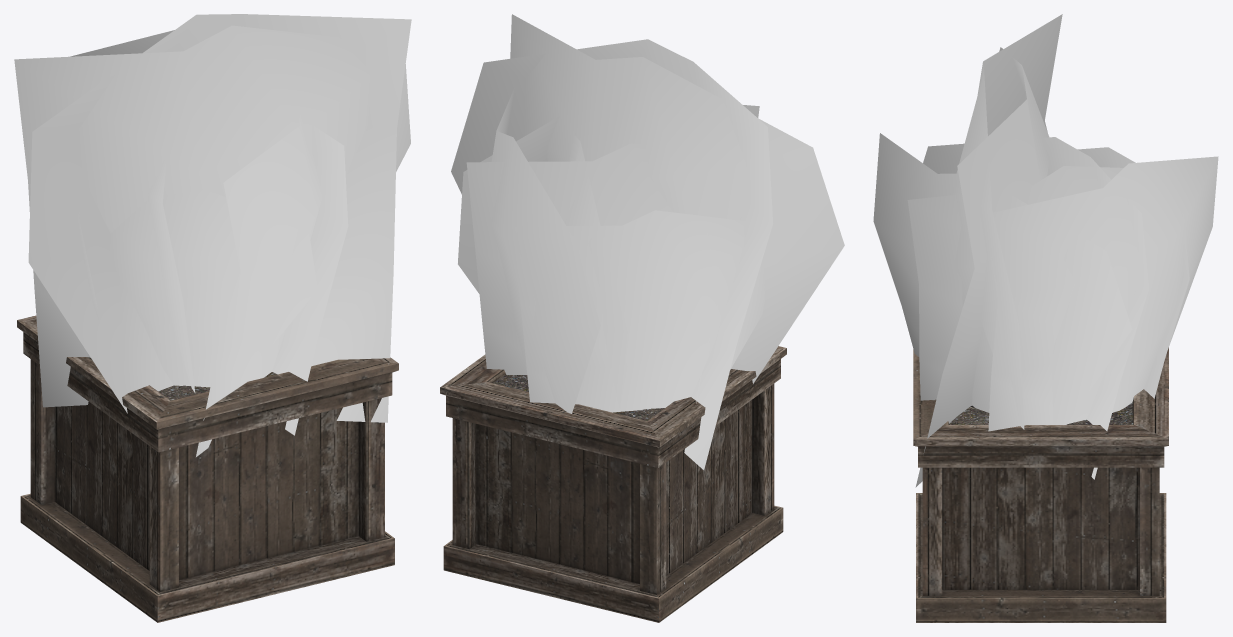
The model's file is Flower_Pot_04.fbx.
3 views of the same model, side by side, from view 1: azimuth 30°, elevation 25°; view 2: azimuth 150°, elevation 25°; view 3: azimuth 270°, elevation 25° (orthographic). The views are drawn at different scales.
Parts seen in each view (by area): view 1: Flower_Pot_04_LOD0; view 2: Flower_Pot_04_LOD0; view 3: Flower_Pot_04_LOD0.
Part boxes in pixels (bbox=[...]): Flower_Pot_04_LOD0: bbox=[14, 14, 411, 622]; Flower_Pot_04_LOD0: bbox=[440, 14, 844, 622]; Flower_Pot_04_LOD0: bbox=[873, 14, 1218, 622].
Size of what is drawn, in the model's own units: 84.12 by 107 by 67.43.
